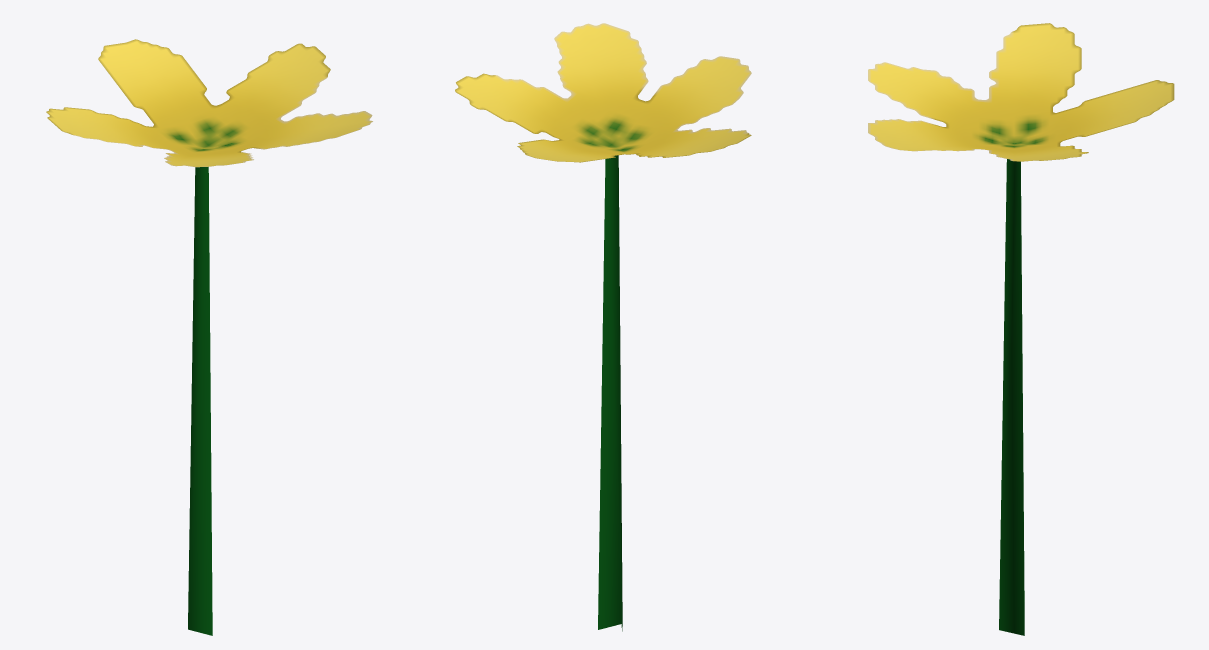
File: wood_sorrel_flower.fbx
3 renders of one model, left to right at view 1: azimuth 30°, elevation 25°; view 2: azimuth 150°, elevation 25°; view 3: azimuth 270°, elevation 25°, orthographic.
Parts seen in each view (by area): view 1: wood_sorrel_flower; view 2: wood_sorrel_flower; view 3: wood_sorrel_flower.
Part boxes in pixels (x1=…): wood_sorrel_flower: x1=46, y1=39, x2=372, y2=635; wood_sorrel_flower: x1=455, y1=23, x2=751, y2=631; wood_sorrel_flower: x1=868, y1=23, x2=1174, y2=635.
Size of the model in its own units: 20.11 by 33.28 by 20.11.
1 material, 1 textured.
